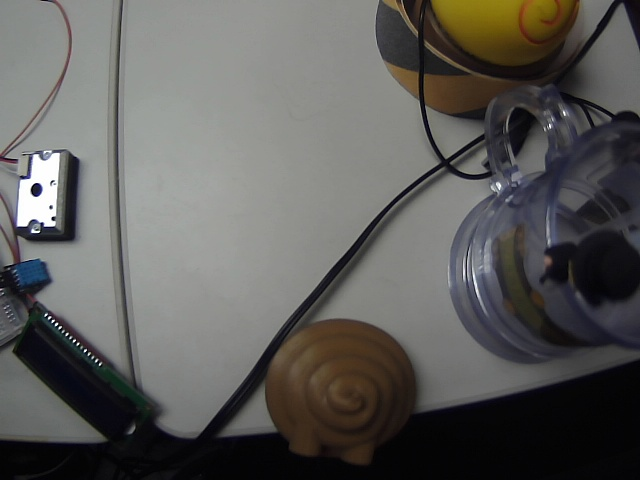shit: (261, 314, 433, 466)
